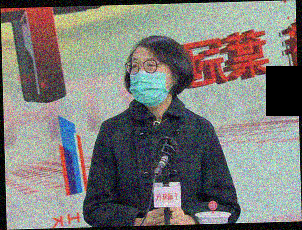with_mask: (126, 55, 172, 109)
